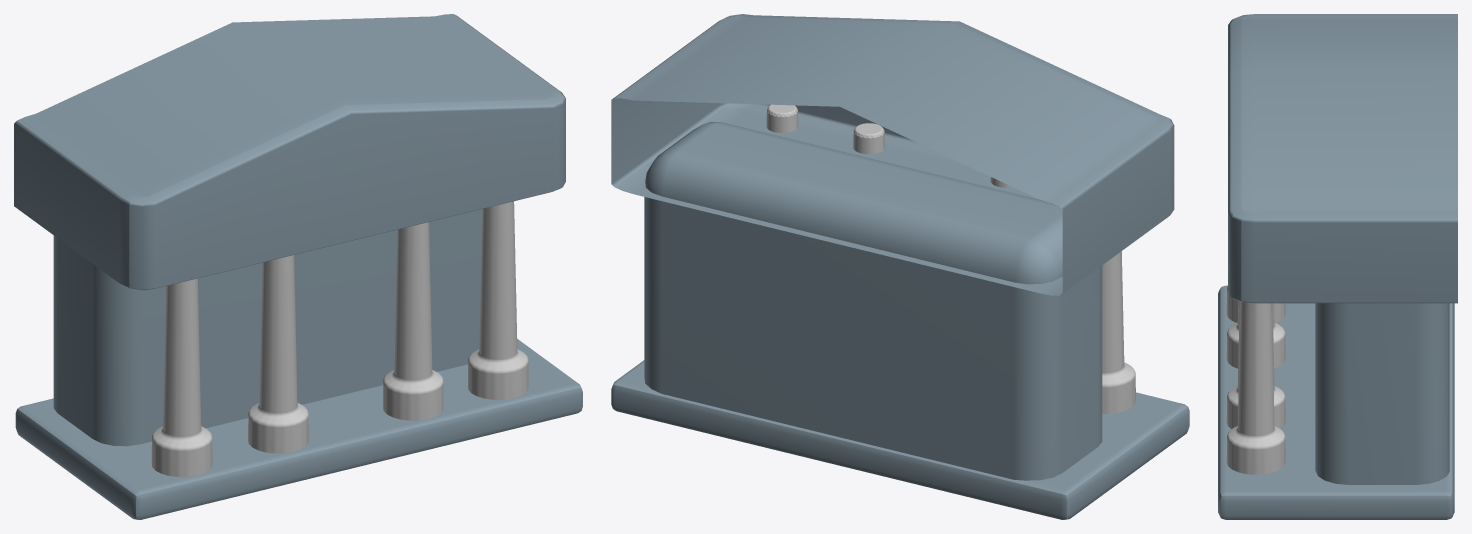
3 views of the same model, side by side, from view 1: azimuth 30°, elevation 25°; view 2: azimuth 150°, elevation 25°; view 3: azimuth 270°, elevation 25° (orthographic). The views are drawn at different scales.
Visible parts, largest first — view 1: pasted__pCube138; view 2: pasted__pCube138; view 3: pasted__pCube138.
Part boxes in pixels (left/top/right/bottom): pasted__pCube138: left=14, top=14, right=582, bottom=519; pasted__pCube138: left=611, top=14, right=1189, bottom=519; pasted__pCube138: left=1218, top=14, right=1457, bottom=519.
Size of the model in its own units: 50.26 by 38.03 by 24.02.
